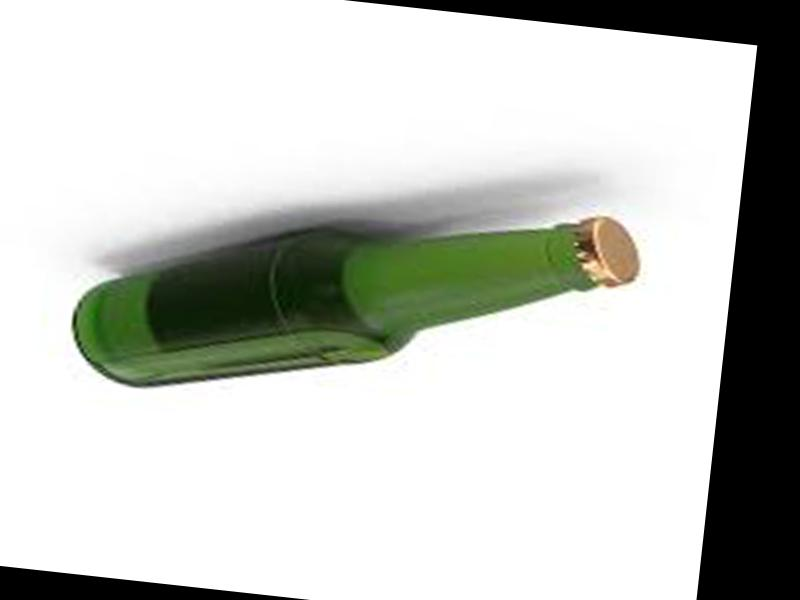Beer: (65, 159, 648, 440)
